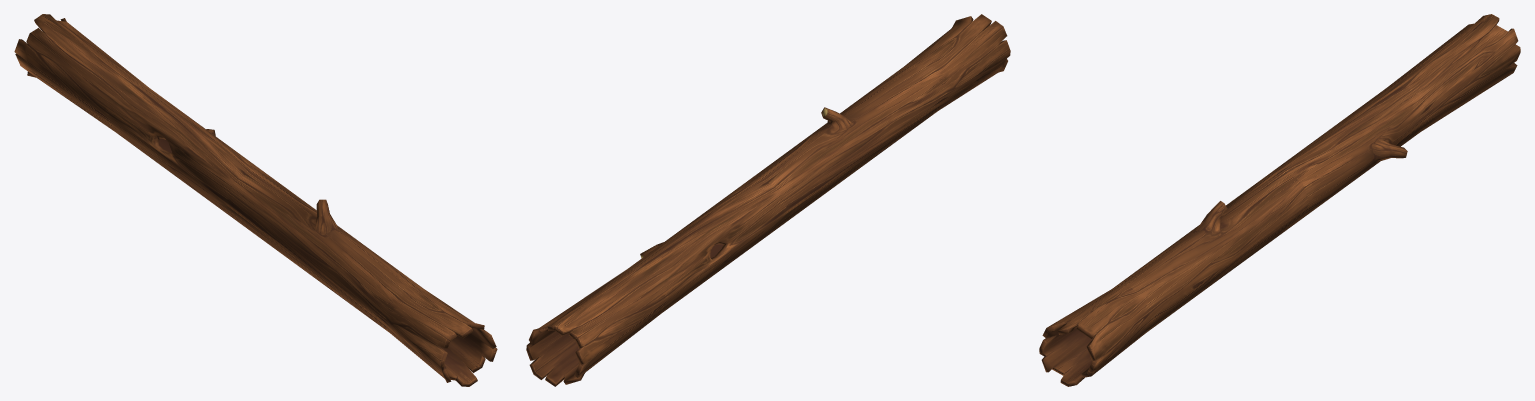
The model's file is ppsTrunkLong.FBX.
The picture shows the model from 3 angles, left to right: view 1: azimuth 30°, elevation 25°; view 2: azimuth 150°, elevation 25°; view 3: azimuth 330°, elevation 25°; orthographic projection.
Visible parts, largest first — view 1: ppsTrunkLong; view 2: ppsTrunkLong; view 3: ppsTrunkLong.
Part boxes in pixels (box(x1,y1,x2,y2)): ppsTrunkLong: box(14, 14, 497, 386); ppsTrunkLong: box(526, 14, 1010, 386); ppsTrunkLong: box(1039, 14, 1520, 386).
Size of the model in its own units: 149 by 151 by 1534.
